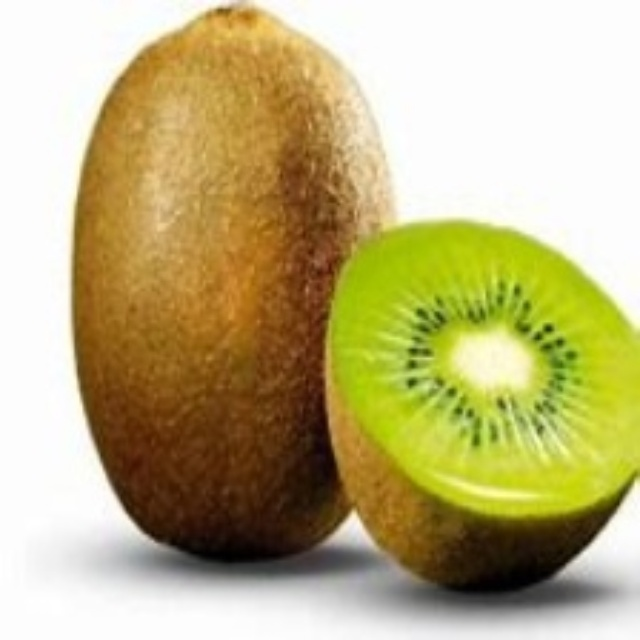kiwi: (72, 7, 415, 570), (309, 216, 639, 596)
